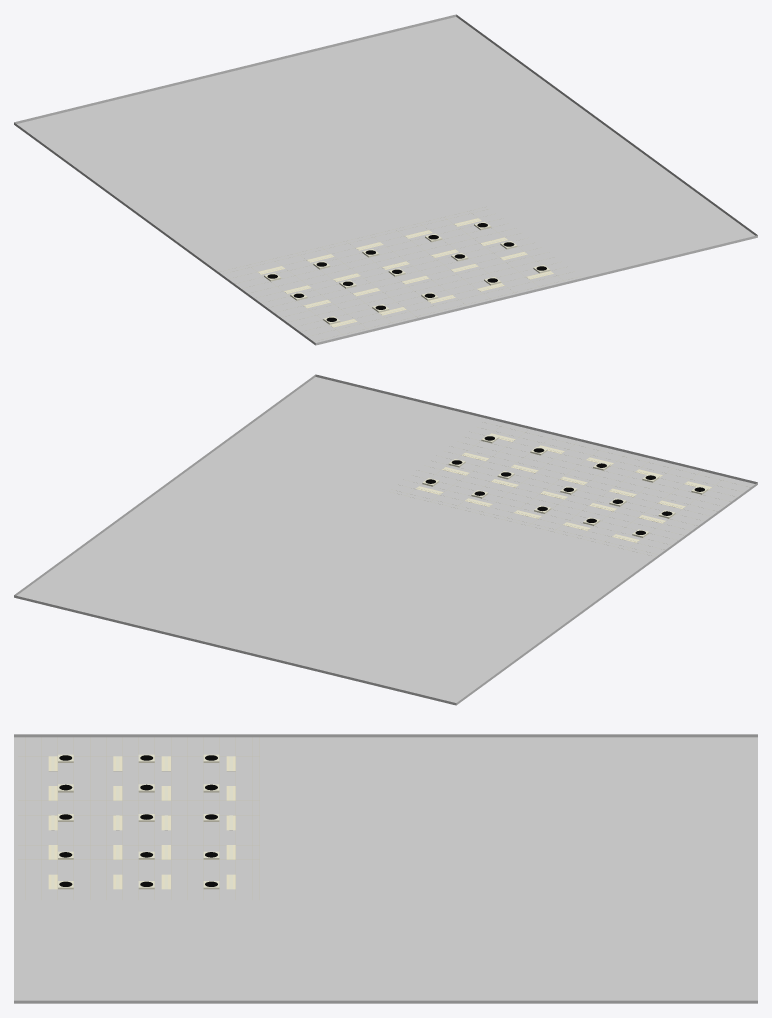
The model's file is roof.fbx.
3 renders of one model, top to bottom at view 1: azimuth 30°, elevation 25°; view 2: azimuth 150°, elevation 25°; view 3: azimuth 270°, elevation 25°, orthographic. The views are drawn at different scales.
Visible parts, largest first — view 1: Cube.021, Splints roof, Light right.019, Cube.050, Middle; view 2: Cube.021, Splints roof, Light right.019, Cube.050, Middle; view 3: Cube.021, Splints roof, Light right.019, Cube.050, Middle.
Boxes of the visible parts, x1,y1,x2,y2 form: Cube.021: (14, 14, 757, 345); Splints roof: (220, 206, 580, 341); Light right.019: (258, 218, 553, 327); Cube.050: (264, 221, 550, 324); Middle: (259, 219, 552, 326); Cube.021: (14, 374, 757, 705); Splints roof: (389, 422, 750, 556); Light right.019: (416, 433, 711, 542); Cube.050: (422, 435, 708, 537); Middle: (417, 434, 710, 541); Cube.021: (14, 734, 757, 1003); Splints roof: (18, 737, 259, 899); Light right.019: (48, 756, 235, 889); Cube.050: (58, 754, 219, 889); Middle: (51, 756, 232, 889).
Size of the model in its own units: 4452 by 26.78 by 5259.
